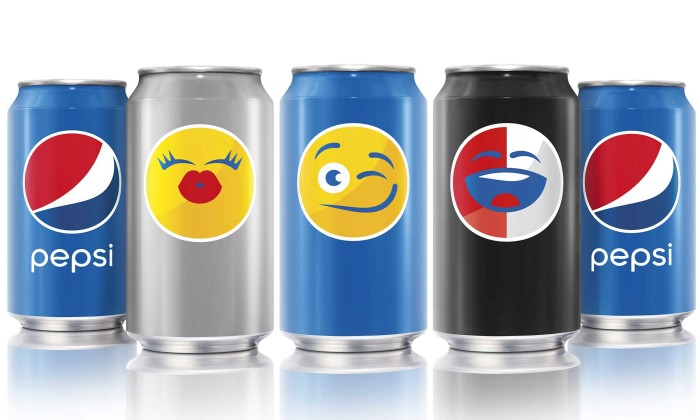can: (130, 63, 280, 369), (280, 63, 430, 361), (433, 66, 569, 366), (577, 69, 700, 345), (4, 75, 130, 343)
